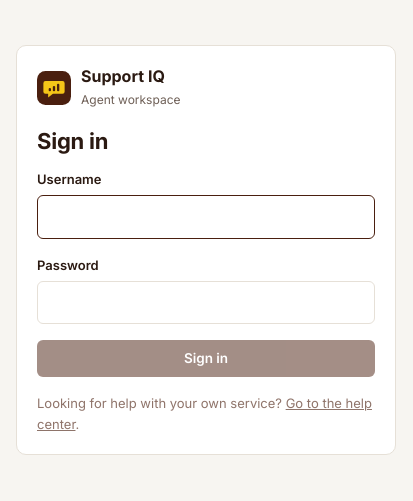
Test: staff sign-in › shows the error and stays on the sign-in page when the password is wrong
Type "priya" into the field labelled "Username".
click(206, 217); type("priya")  # box [37,195,375,239]
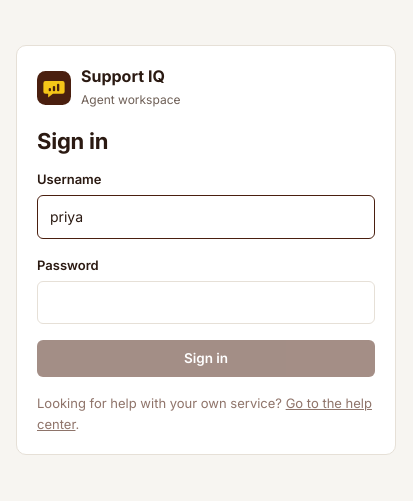
Type "wrong-password" into the password field labelled "Password".
click(206, 303); type("wrong-password")  # box [37,281,375,324]
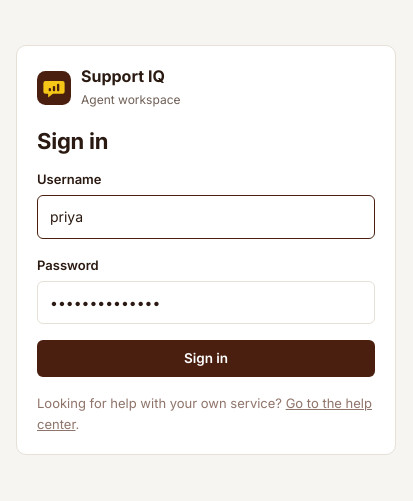
Click the button "Sign in".
click(206, 359)  # box [37,340,375,377]
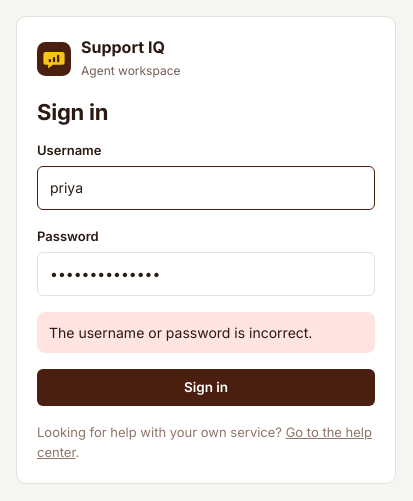
Check: the message shows "incorrect", box [49,324,312,341]
